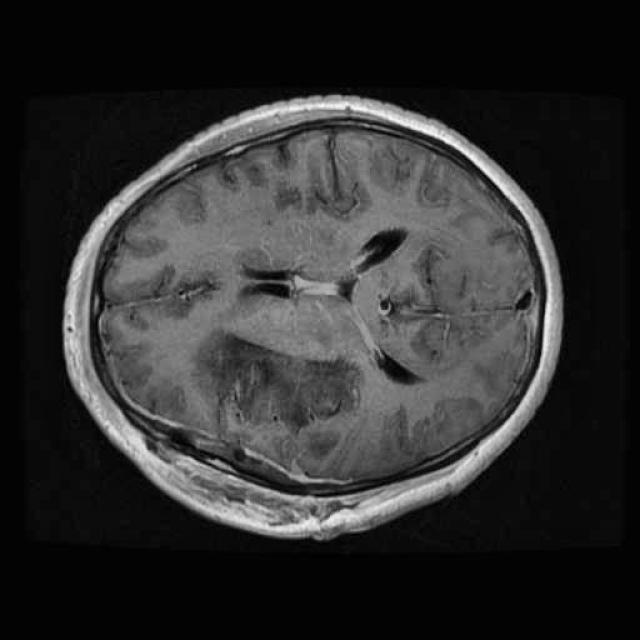Non-Tumor: (185, 310, 375, 452)
